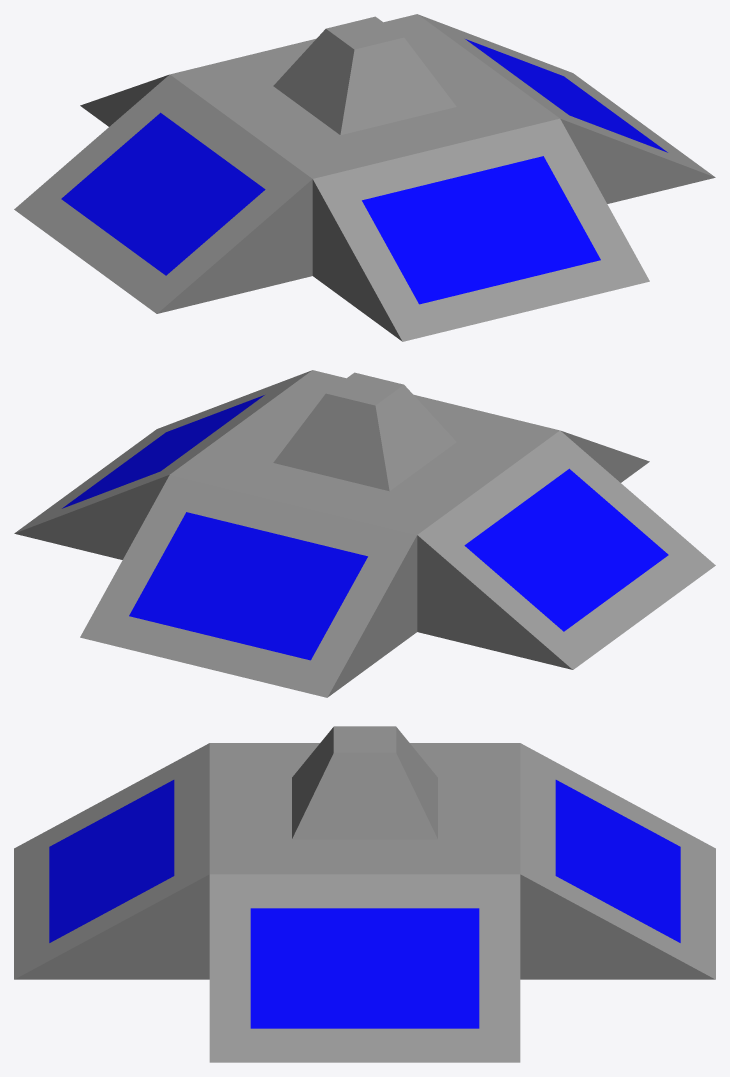
The model's file is FlagPod.FBX.
3 views of the same model, one above another, from view 1: azimuth 30°, elevation 25°; view 2: azimuth 150°, elevation 25°; view 3: azimuth 270°, elevation 25° (orthographic). The views are drawn at different scales.
Parts seen in each view (by area): view 1: Box01, Object01; view 2: Box01, Object01; view 3: Box01, Object01.
Boxes of the visible parts, x1,y1,x2,y2 form: Box01: (14, 14, 715, 341); Object01: (61, 39, 667, 304); Box01: (14, 370, 715, 697); Object01: (62, 395, 668, 660); Box01: (14, 726, 715, 1062); Object01: (49, 780, 680, 1028).
Size of the model in its own units: 181 by 49.6 by 181.
